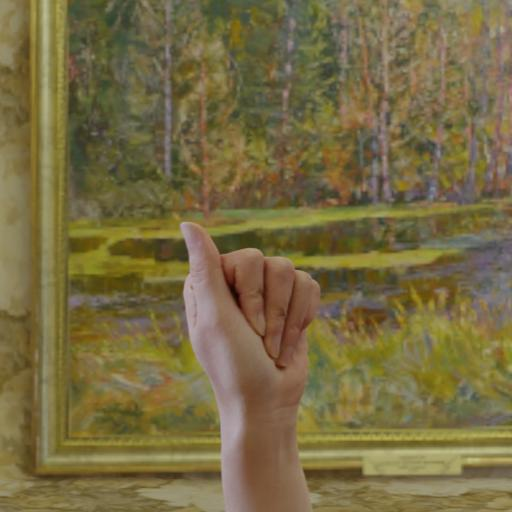A: (173, 216, 336, 435)
